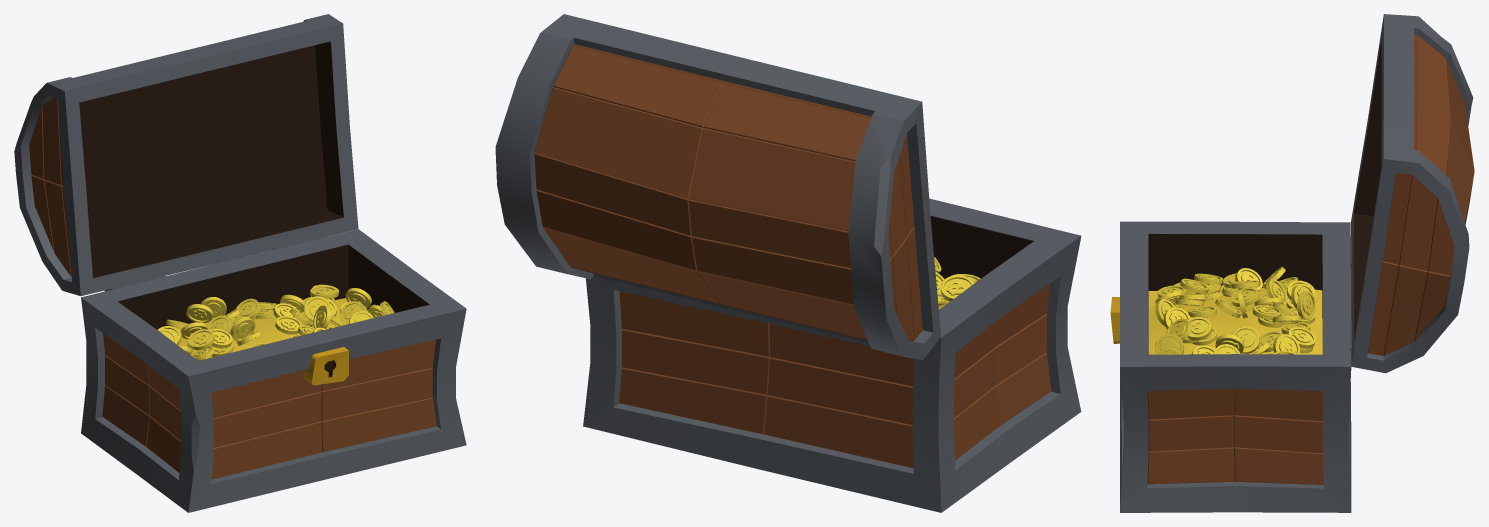
Rendered from Treasure_Chest_Full.fbx.
3 renders of one model, left to right at view 1: azimuth 30°, elevation 25°; view 2: azimuth 150°, elevation 25°; view 3: azimuth 270°, elevation 25°, orthographic. The views are drawn at different scales.
Parts seen in each view (by area): view 1: Treasure_Chest_Lid, Gold Pile, Gold Floor; view 2: Treasure_Chest_Lid, Gold Pile; view 3: Treasure_Chest_Lid, Gold Pile, Gold Floor.
Part boxes in pixels (x1,y1,x2,y2): Treasure_Chest_Lid: (14, 14, 466, 512); Gold Pile: (157, 284, 394, 360); Gold Floor: (178, 298, 367, 357); Treasure_Chest_Lid: (495, 14, 1081, 512); Gold Pile: (934, 257, 980, 309); Treasure_Chest_Lid: (1110, 14, 1474, 512); Gold Pile: (1155, 266, 1315, 354); Gold Floor: (1148, 288, 1322, 354).
Size of the model in its own units: 2.18 by 2.29 by 2.13.
